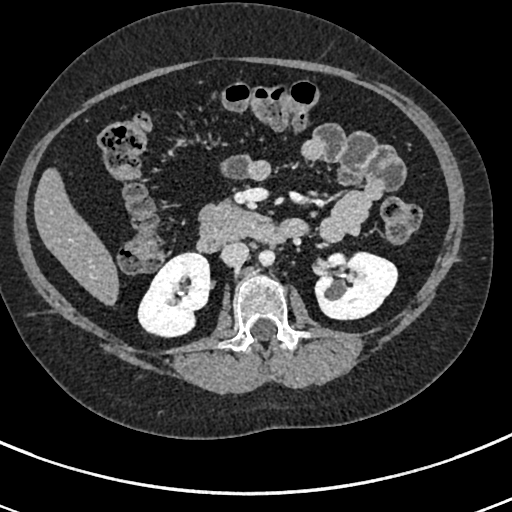Lesion: (322, 275, 347, 303)
